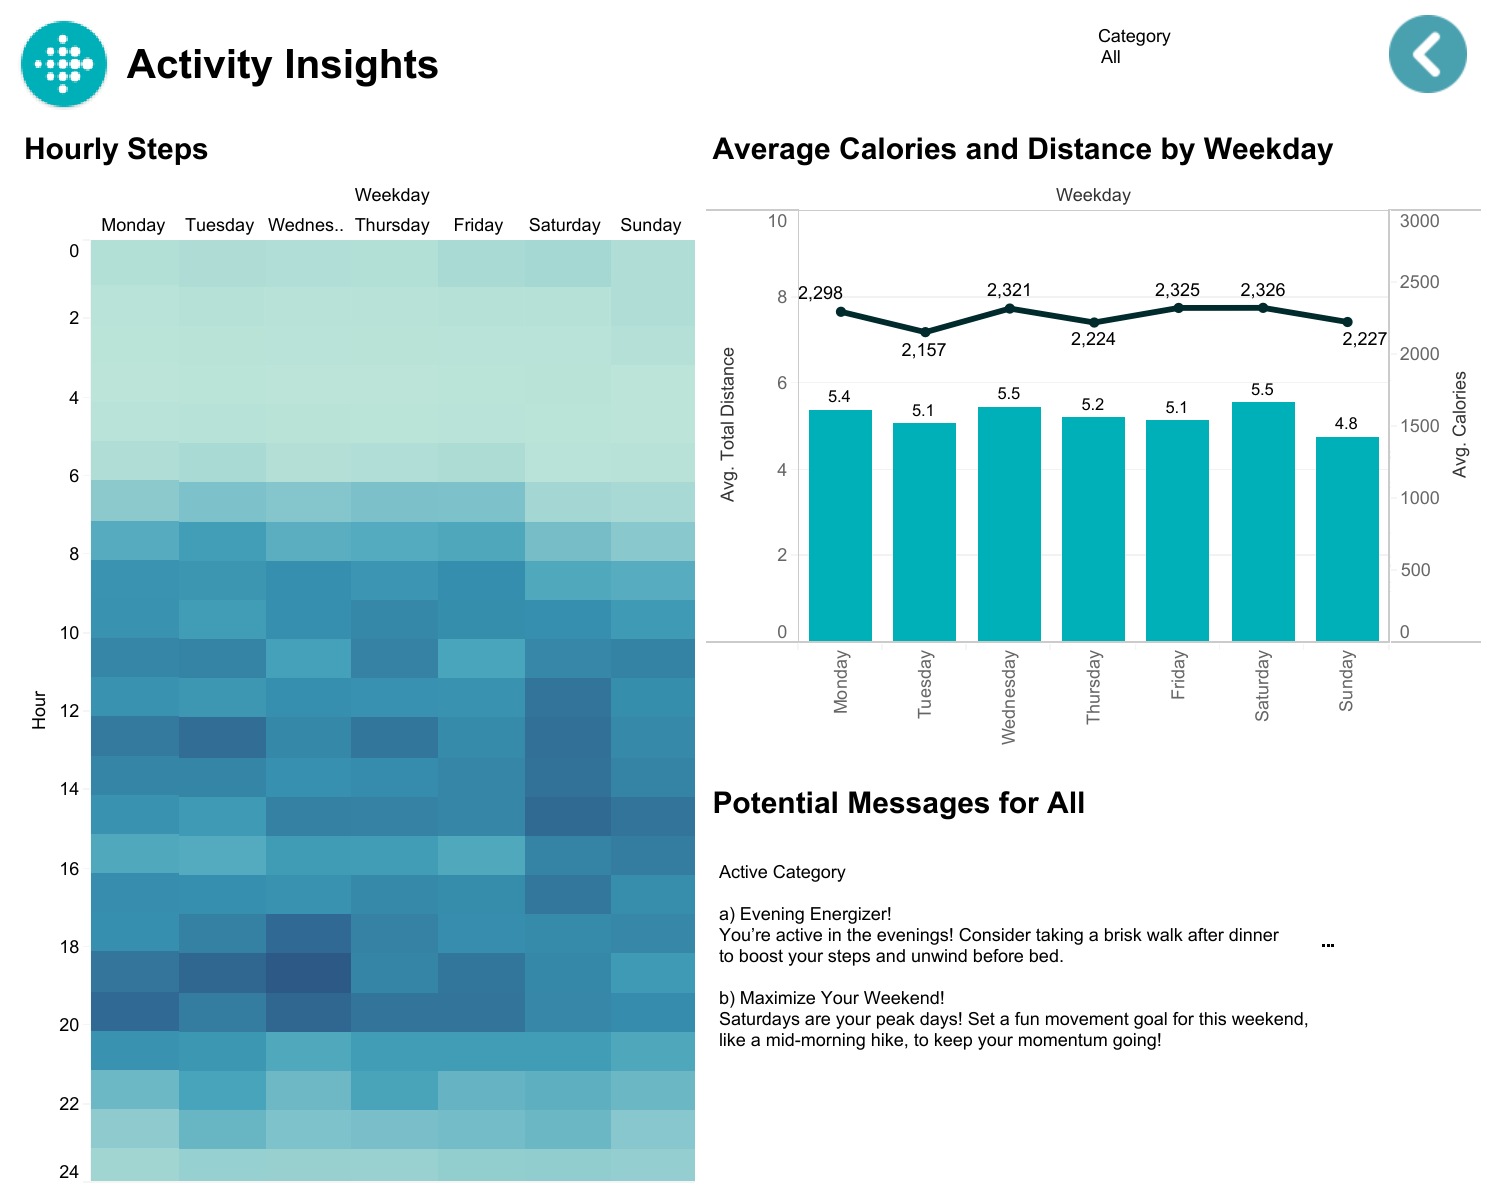

What the dashboard file says about the page in this screenshot:
{"tool":"tableau","page":{"name":"Activity Dashboard","canvas":[1000,800],"ordinal":0},"visuals":[{"type":"image","param":"Image/new-fitbit-flex-and-charge-leaked-finally-fitbit-can-swim-run-765316.png","box":[8,8,70,69]},{"type":"text","box":[78,8,914,69]},{"type":"dashboard-object","box":[913,10,79,52]},{"type":"filter","title":"Hourly Step per User","param":"[federated.1jkm5rr1sd1izx12yl1mx12hcu5c].[none:ActivityCategory:nk]","box":[732,16,168,45]},{"type":"worksheet","title":"Hourly Step per User","mark":"Square","rows":["Hour"],"cols":["weekday (hourly_steps_final.csv)"],"box":[8,77,459,715]},{"type":"worksheet","title":"Avg Dis - Cal final","mark":"Bar","rows":["TotalDistance","Calories"],"cols":["weekday"],"box":[467,77,525,436]},{"type":"worksheet","title":"Messages","mark":"Automatic","box":[467,513,525,279]}]}

Visuals, with their boxes in screenshot pixels (x1, y1, x2, y2), scaled from the page's 1000x800 canvas onto the 1499x1199 screenshot:
image: select_region(12, 12, 117, 115)
text: select_region(117, 12, 1487, 115)
dashboard-object: select_region(1369, 15, 1487, 93)
"Hourly Step per User" filter: select_region(1097, 24, 1349, 91)
"Hourly Step per User" worksheet (Square marks): select_region(12, 115, 700, 1187)
"Avg Dis - Cal final" worksheet (Bar marks): select_region(700, 115, 1487, 769)
"Messages" worksheet: select_region(700, 769, 1487, 1187)
